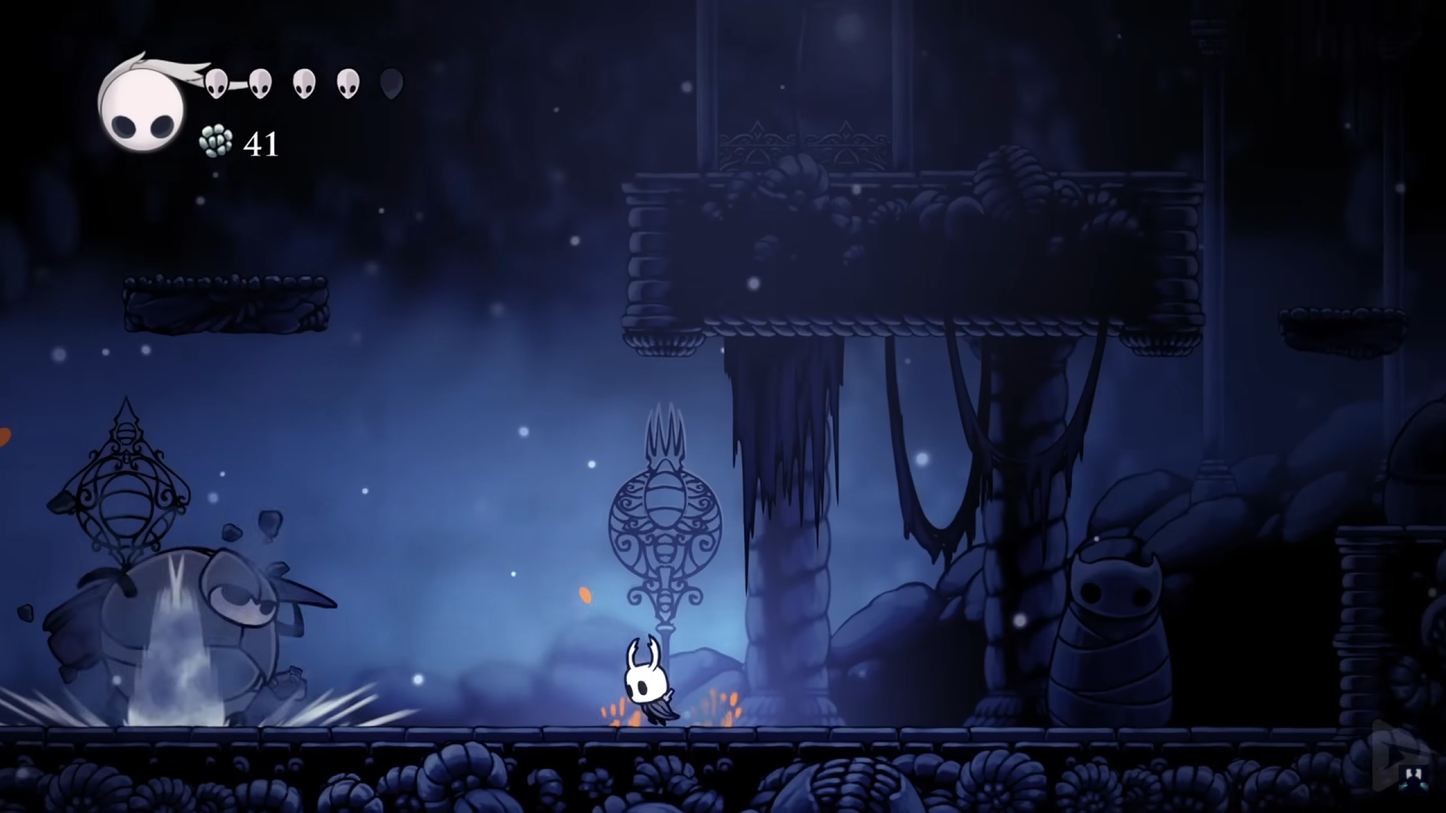HK: (618, 635, 678, 729)
